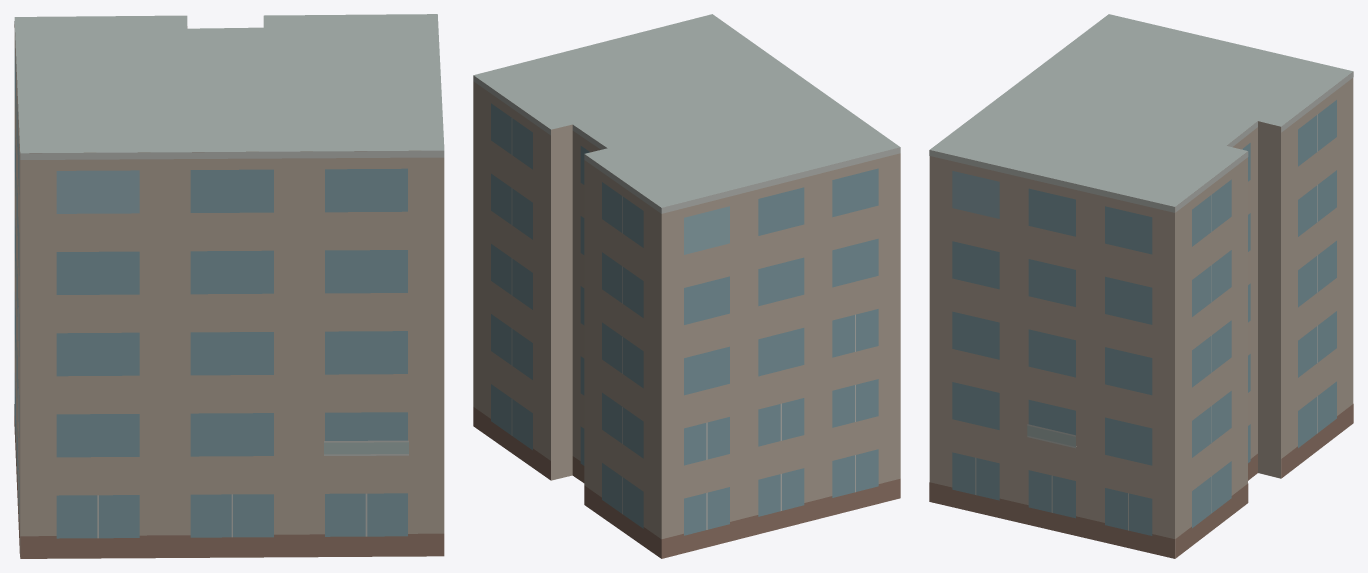
Rendered from survey-upis-32878416.glb.
3 views of the same model, side by side, from view 1: azimuth 30°, elevation 25°; view 2: azimuth 150°, elevation 25°; view 3: azimuth 270°, elevation 25° (orthographic). The views are drawn at different scales.
Parts seen in each view (by area): view 1: survey-upis-32878416.tmp; view 2: survey-upis-32878416.tmp; view 3: survey-upis-32878416.tmp.
Boxes of the visible parts, x1,y1,x2,y2 form: survey-upis-32878416.tmp: [14, 14, 444, 558]; survey-upis-32878416.tmp: [473, 14, 900, 558]; survey-upis-32878416.tmp: [929, 14, 1353, 558].
Size of the model in its own units: 16.82 by 14.3 by 15.62.
